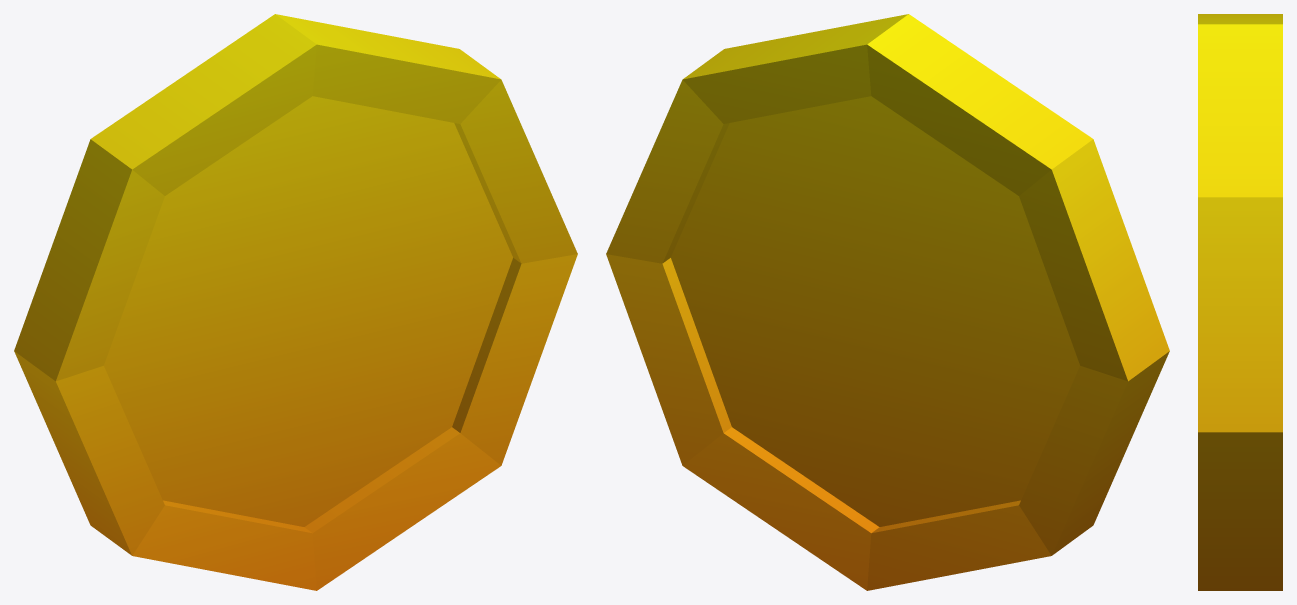
File: Moneda.fbx
The picture shows the model from 3 angles, left to right: view 1: azimuth 30°, elevation 25°; view 2: azimuth 150°, elevation 25°; view 3: azimuth 270°, elevation 25°; orthographic projection.
Visible parts, largest first — view 1: Circle; view 2: Circle; view 3: Circle.
Part boxes in pixels (x1,y1,x2,y2): Circle: (14,14,577,590); Circle: (606,14,1169,590); Circle: (1198,14,1282,590).
Size of the model in its own units: 200 by 200 by 27.68.
